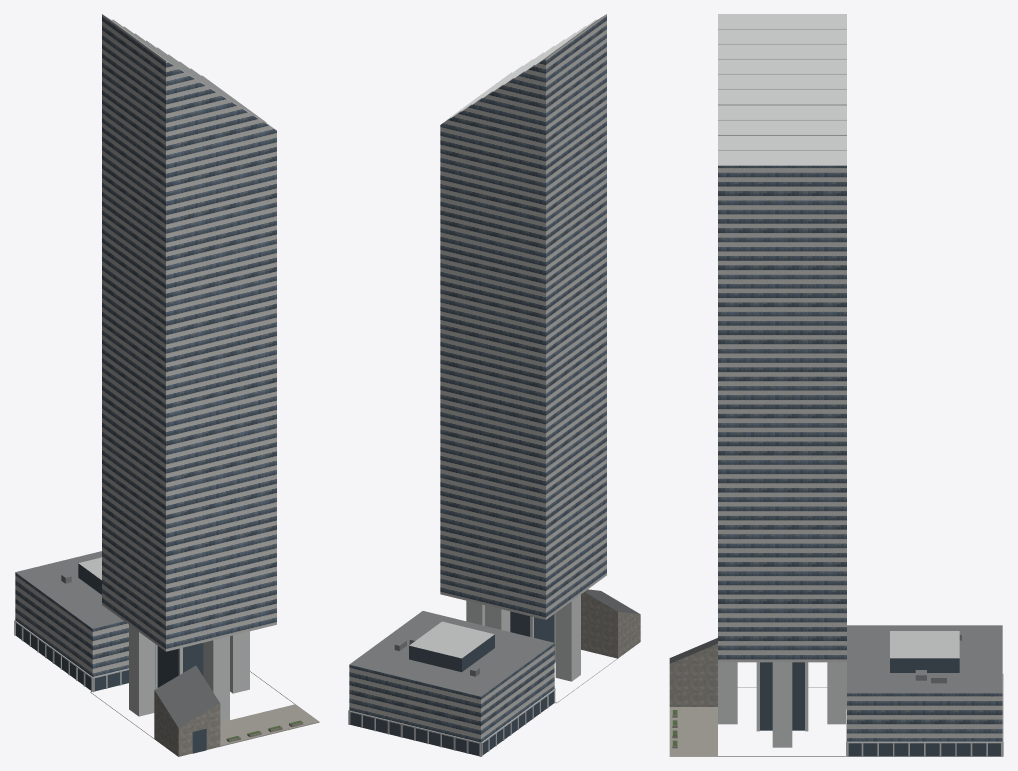
File: citigroup_center.glb
3 renders of one model, left to right at view 1: azimuth 30°, elevation 25°; view 2: azimuth 150°, elevation 25°; view 3: azimuth 270°, elevation 25°, orthographic. The views are drawn at different scales.
Visible parts, largest first — view 1: citigroup_center; view 2: citigroup_center; view 3: citigroup_center.
Part boxes in pixels (x1,y1,x2,y2): citigroup_center: [14, 14, 319, 756]; citigroup_center: [348, 14, 640, 756]; citigroup_center: [669, 14, 1003, 756].
Bounding box in the file's own units: 61.41 × 279 × 125.
Materials: 3 (3 with a texture image).
